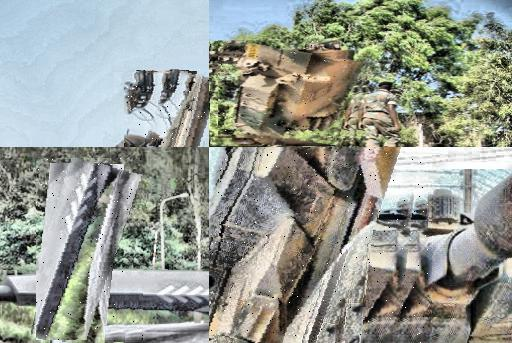tanks: (210, 148, 404, 343), (37, 160, 143, 342), (219, 42, 368, 140), (165, 70, 210, 148)
